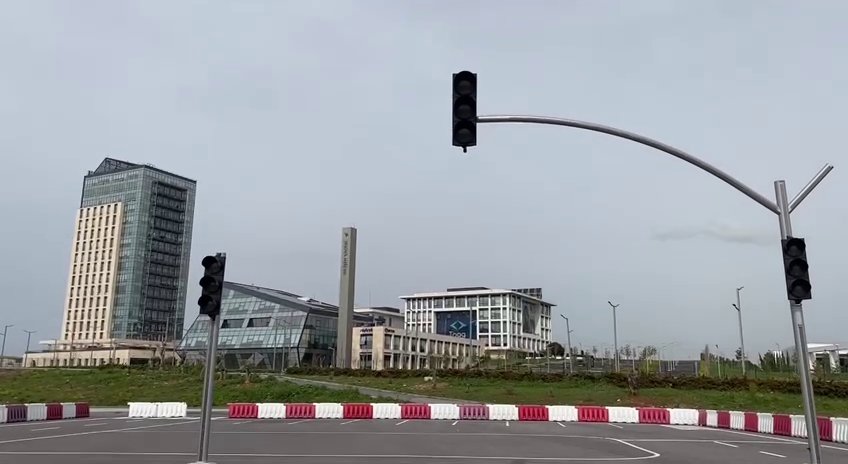trafficLight: (446, 66, 482, 156), (779, 233, 815, 304), (195, 251, 229, 322)
